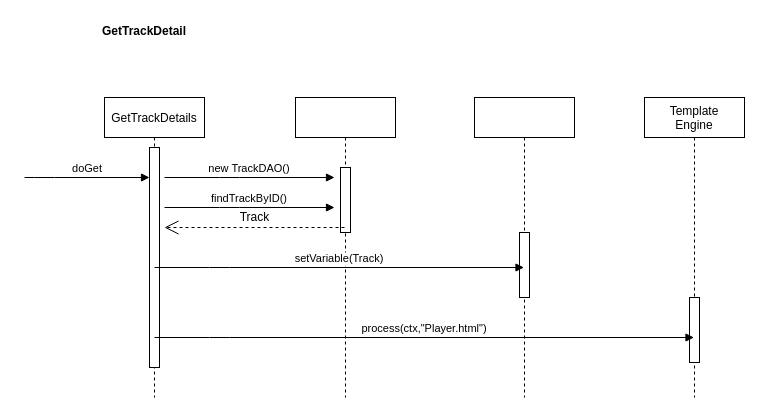
Some shapes in this 762 by 415 pixel diagram are drawn without their labels. Each missing label, with the centre of its shape:
"ctx" goes at [524,247].
"TrackDAO" goes at [345,247].
